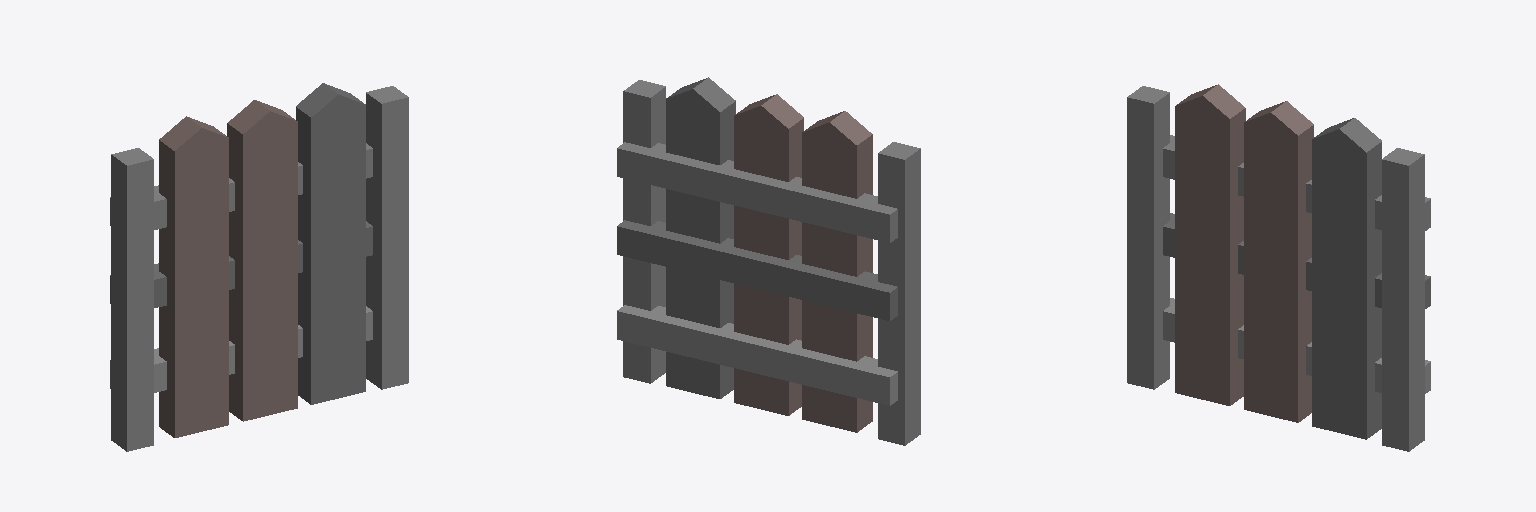
The model's file is Fence.obj.
3 renders of one model, left to right at view 1: azimuth 30°, elevation 25°; view 2: azimuth 150°, elevation 25°; view 3: azimuth 330°, elevation 25°, orthographic.
Visible parts, largest first — view 1: Cube.005; view 2: Cube.005; view 3: Cube.005.
Part boxes in pixels (x1,y1,x2,y2): Cube.005: (110, 83, 408, 451); Cube.005: (617, 77, 920, 445); Cube.005: (1127, 84, 1430, 451).
Bounding box in the file's own units: 1.03 × 1.07 × 0.1519.